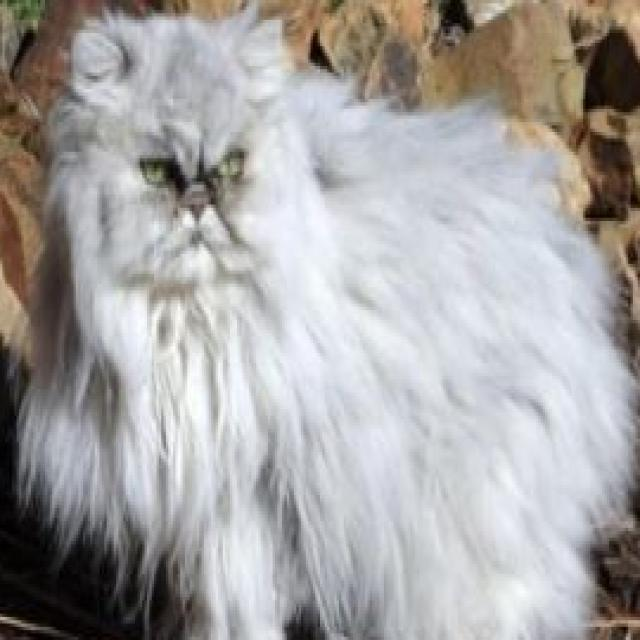Persian: (14, 0, 640, 640)
